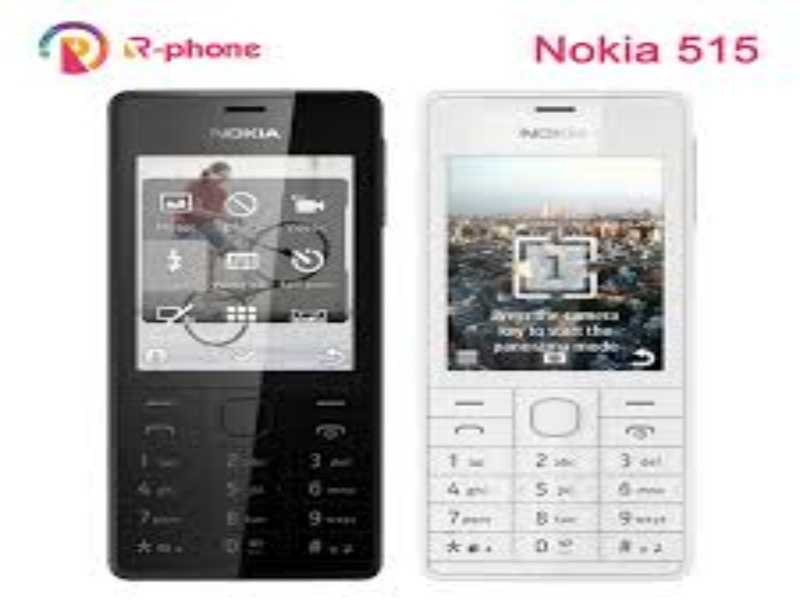mobile: (97, 82, 396, 592), (415, 86, 705, 584)
